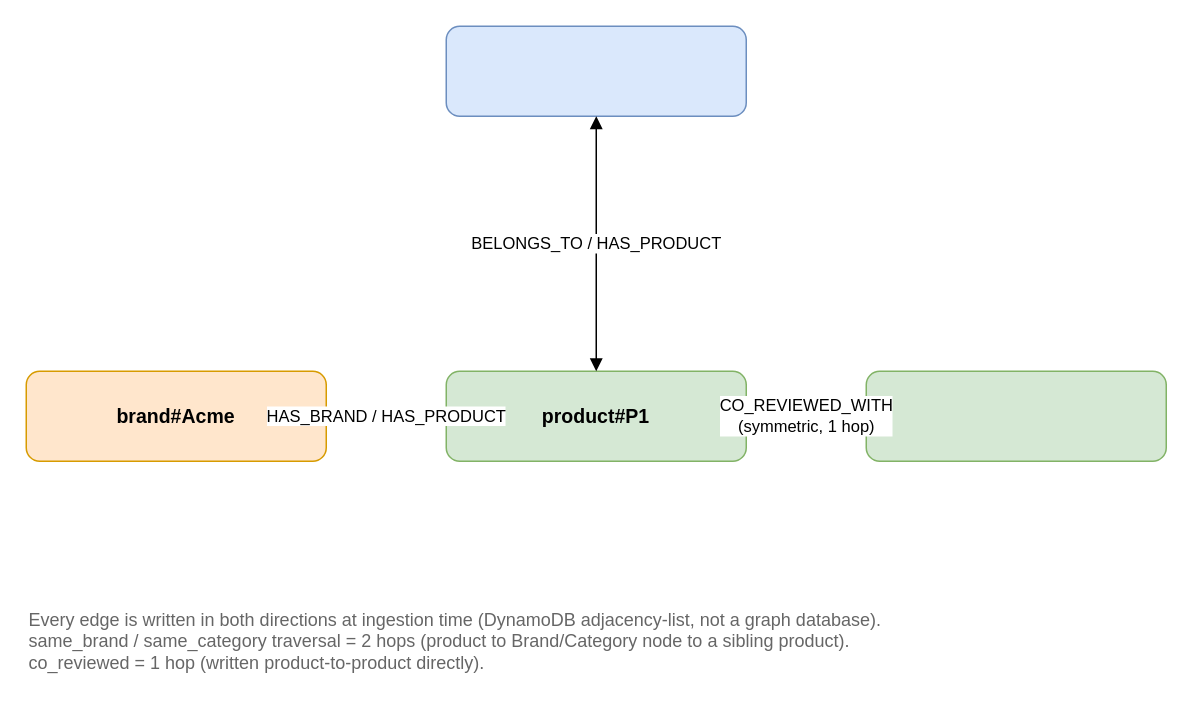
This 1193x713 diagram has some shape labels left out. The shapes that lost their labels are listed below. From the top down, each one's centre as x and y in pixels, then its label:
At point 595,70: "category#All Beauty".
At point 1015,415: "product#P2".
